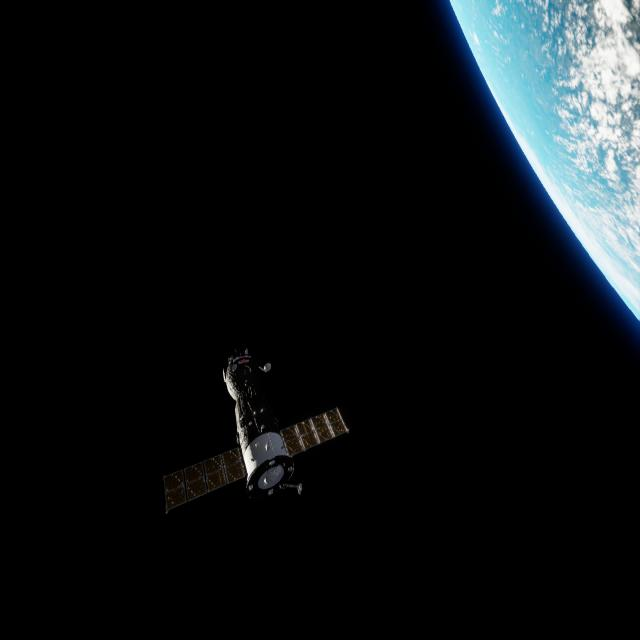Satellites revolving around earth: (448, 1, 638, 324), (161, 346, 351, 516)
